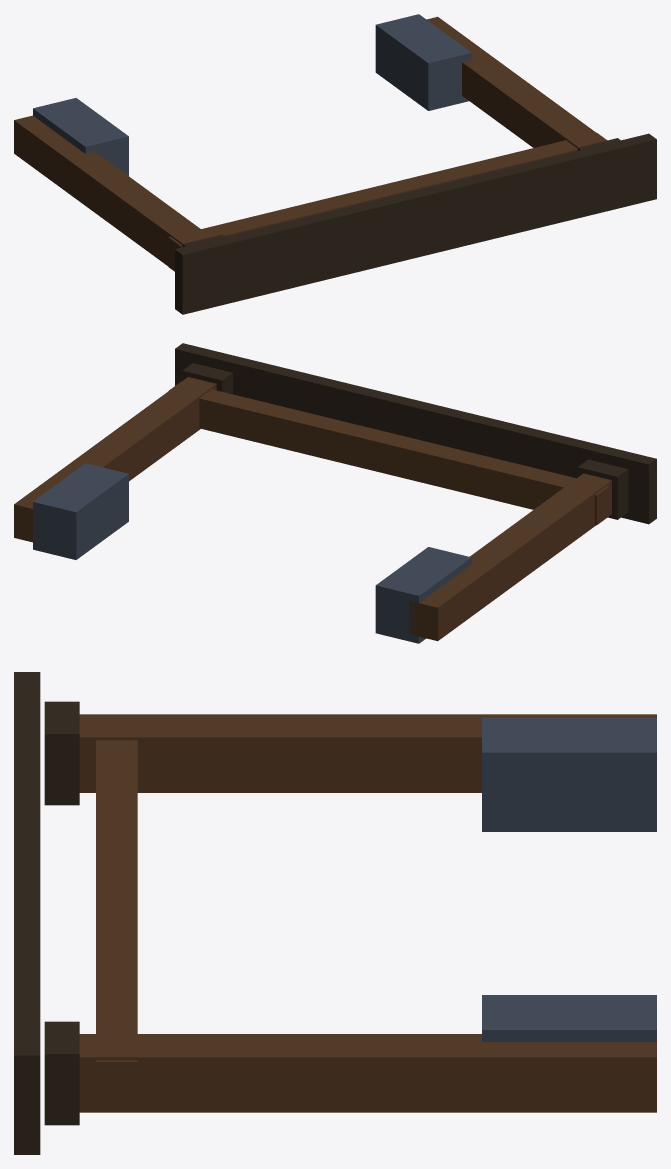
Rendered from TP_DBA_PCG_FarmGate.obj.
The picture shows the model from 3 angles, top to bottom: view 1: azimuth 30°, elevation 25°; view 2: azimuth 150°, elevation 25°; view 3: azimuth 270°, elevation 25°; orthographic projection. The views are drawn at different scales.
Parts seen in each view (by area): view 1: TP_DBA_PCG_FarmGate; view 2: TP_DBA_PCG_FarmGate; view 3: TP_DBA_PCG_FarmGate.
Boxes of the visible parts, x1=… form: TP_DBA_PCG_FarmGate: x1=14, y1=14, x2=656, y2=314; TP_DBA_PCG_FarmGate: x1=14, y1=343, x2=656, y2=643; TP_DBA_PCG_FarmGate: x1=14, y1=672, x2=656, y2=1154.
Bounding box in the file's own units: 415 × 50 × 294.
